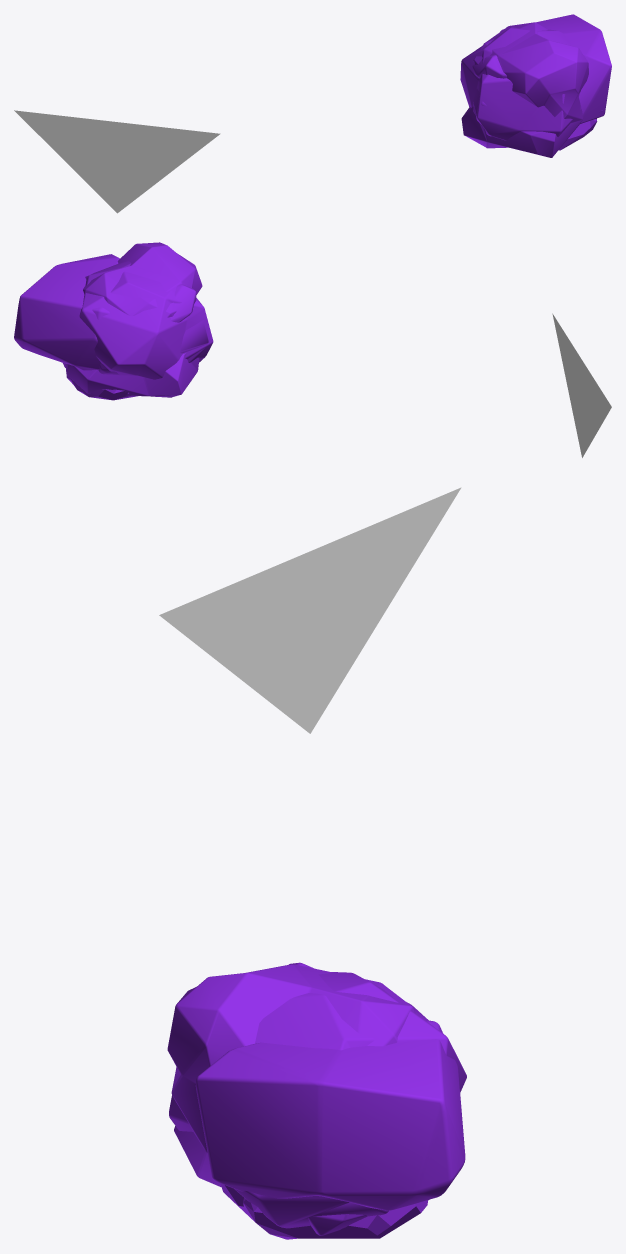
File: asteroids.fbx
3 renders of one model, top to bottom at view 1: azimuth 30°, elevation 25°; view 2: azimuth 150°, elevation 25°; view 3: azimuth 270°, elevation 25°, orthographic. The views are drawn at different scales.
Parts seen in each view (by area): view 1: Cube, rock.004, rock.007, rock.002, rock.008, rock.003; view 2: rock.007, rock.002, rock.004, Cube, rock.008, rock.006, rock.003; view 3: rock.002, Cube, rock.004, rock.007, rock.003.
Part boxes in pixels (x1,y1,x2,y2): Cube: [14, 110, 220, 213]; rock.004: [461, 22, 588, 157]; rock.007: [460, 27, 602, 140]; rock.002: [500, 14, 611, 123]; rock.008: [472, 54, 506, 78]; rock.003: [559, 119, 597, 150]; rock.007: [63, 261, 213, 379]; rock.002: [14, 254, 119, 370]; rock.004: [65, 242, 202, 397]; Cube: [552, 313, 611, 457]; rock.008: [98, 284, 196, 374]; rock.006: [180, 320, 208, 362]; rock.003: [66, 375, 137, 400]; rock.002: [195, 1020, 465, 1210]; Cube: [159, 487, 461, 733]; rock.004: [167, 964, 428, 1235]; rock.007: [169, 972, 466, 1228]; rock.003: [220, 1183, 427, 1239].
Bounding box in the file's own units: 852 × 184 × 203.
